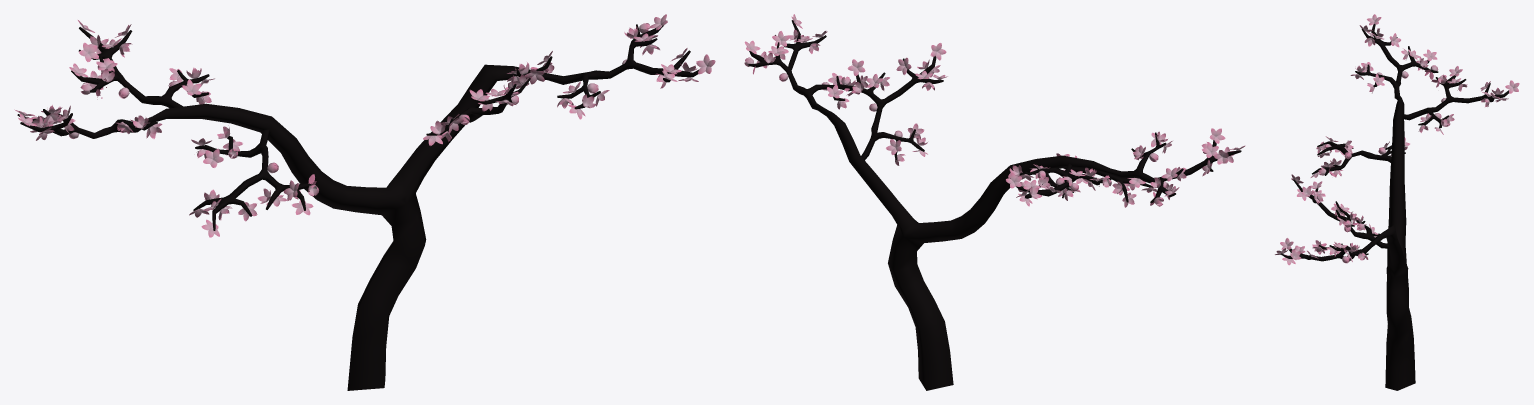
The model's file is Sakura.fbx.
3 views of the same model, side by side, from view 1: azimuth 30°, elevation 25°; view 2: azimuth 150°, elevation 25°; view 3: azimuth 270°, elevation 25° (orthographic). The views are drawn at different scales.
Parts seen in each view (by area): view 1: Sakura; view 2: Sakura; view 3: Sakura.
Part boxes in pixels (<box>): Sakura: <box>14,14,715,390</box>; Sakura: <box>744,14,1245,390</box>; Sakura: <box>1275,14,1519,390</box>.
Size of the model in its own units: 181 by 102 by 89.44.
Materials: 2 (1 with a texture image).
